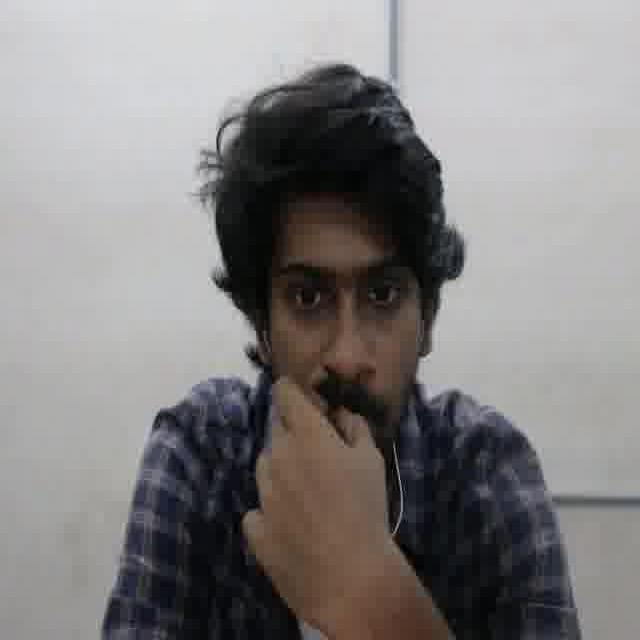Frustration: (262, 213, 419, 468)
